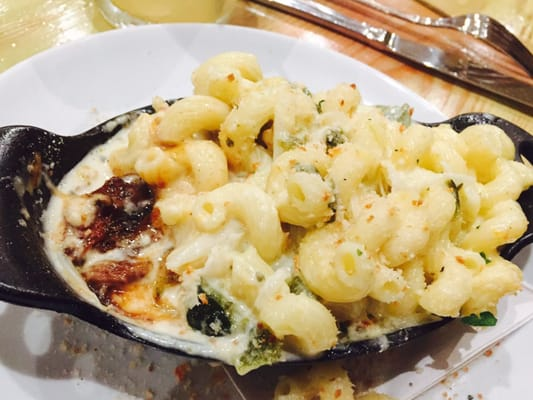sandwich: (243, 0, 533, 109)
sushi: (10, 20, 533, 397)
